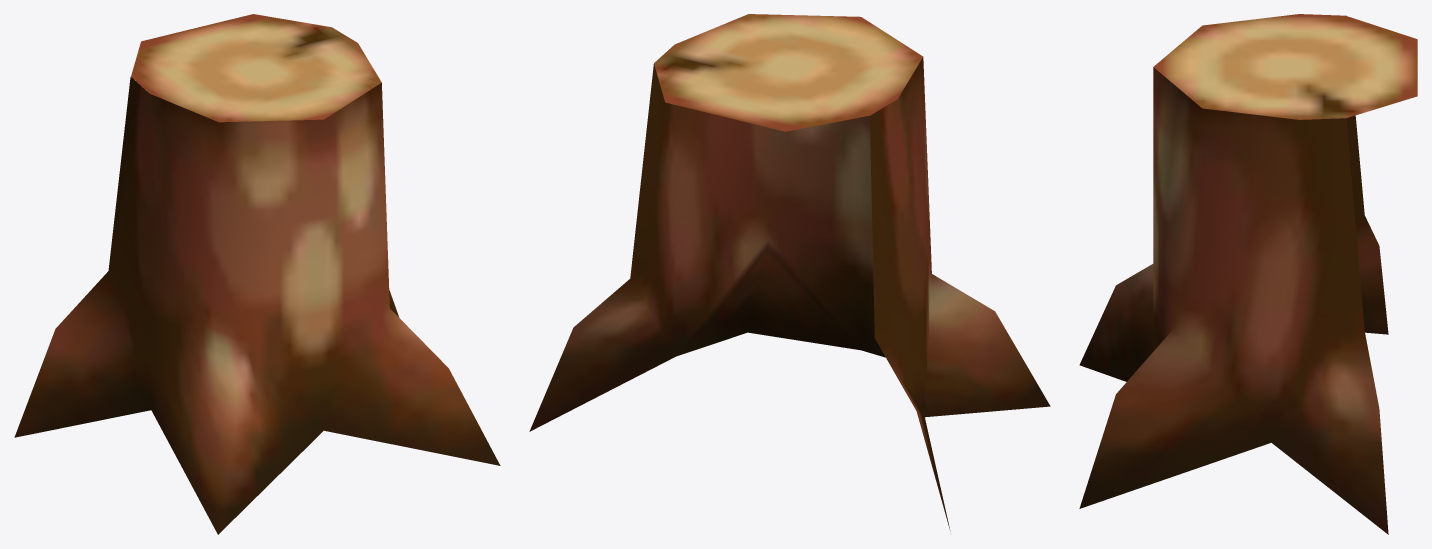
Rendered from fg_treeB_2_b.dae.
3 renders of one model, left to right at view 1: azimuth 30°, elevation 25°; view 2: azimuth 150°, elevation 25°; view 3: azimuth 270°, elevation 25°, orthographic. The views are drawn at different scales.
Visible parts, largest first — view 1: fg_treeB_2_b; view 2: fg_treeB_2_b; view 3: fg_treeB_2_b.
Boxes of the visible parts, bbox=[...] form: fg_treeB_2_b: bbox=[14, 14, 500, 534]; fg_treeB_2_b: bbox=[529, 14, 1050, 530]; fg_treeB_2_b: bbox=[1079, 14, 1417, 534].
Bounding box in the file's own units: 17.01 × 14.66 × 12.14.
Materials: 1 (1 with a texture image).
